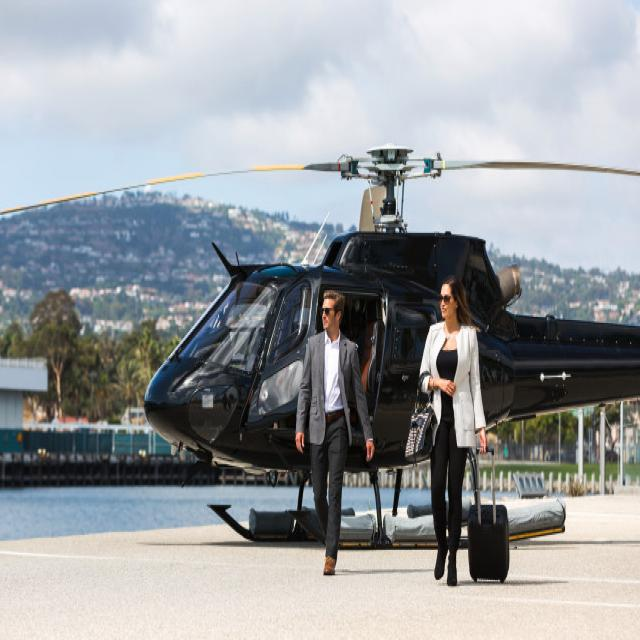helicopter: (1, 110, 640, 562)
